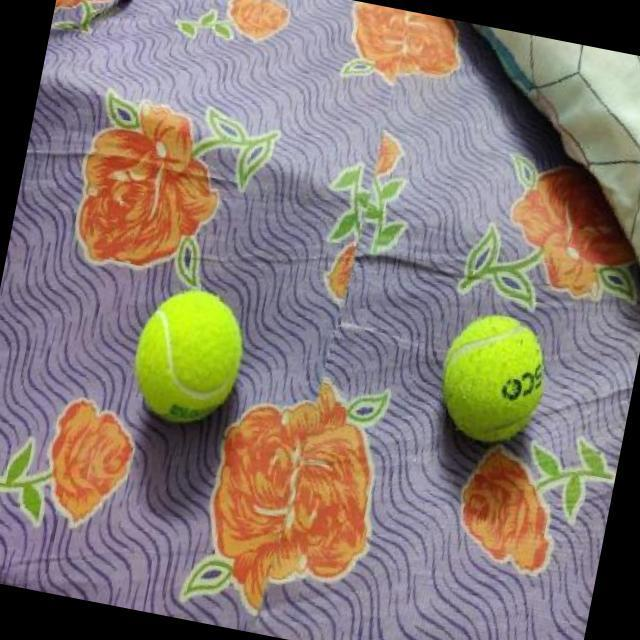-: (116, 261, 270, 449), (426, 289, 561, 471)
